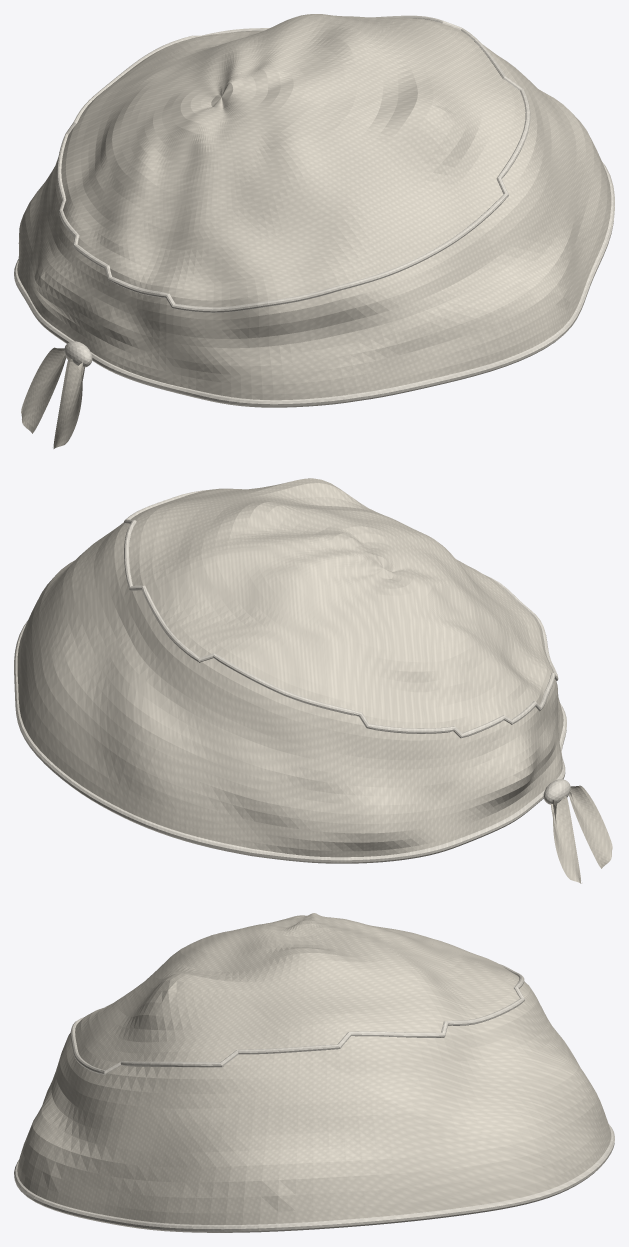
The model's file is side_h_goatherd_headcloth.glb.
3 views of the same model, one above another, from view 1: azimuth 30°, elevation 25°; view 2: azimuth 150°, elevation 25°; view 3: azimuth 270°, elevation 25° (orthographic). The views are drawn at different scales.
Parts seen in each view (by area): view 1: wash_dyed_linen, sewn_fold; view 2: wash_dyed_linen, sewn_fold; view 3: wash_dyed_linen, sewn_fold.
Boxes of the visible parts, bbox=[...] form: wash_dyed_linen: bbox=[17, 14, 611, 448]; sewn_fold: bbox=[14, 15, 614, 407]; wash_dyed_linen: bbox=[17, 478, 612, 883]; sewn_fold: bbox=[14, 490, 570, 863]; wash_dyed_linen: bbox=[17, 913, 611, 1224]; sewn_fold: bbox=[14, 964, 614, 1232].
Size of the model in its own units: 16.33 by 8.73 by 15.2.
3 materials, 3 textured.
